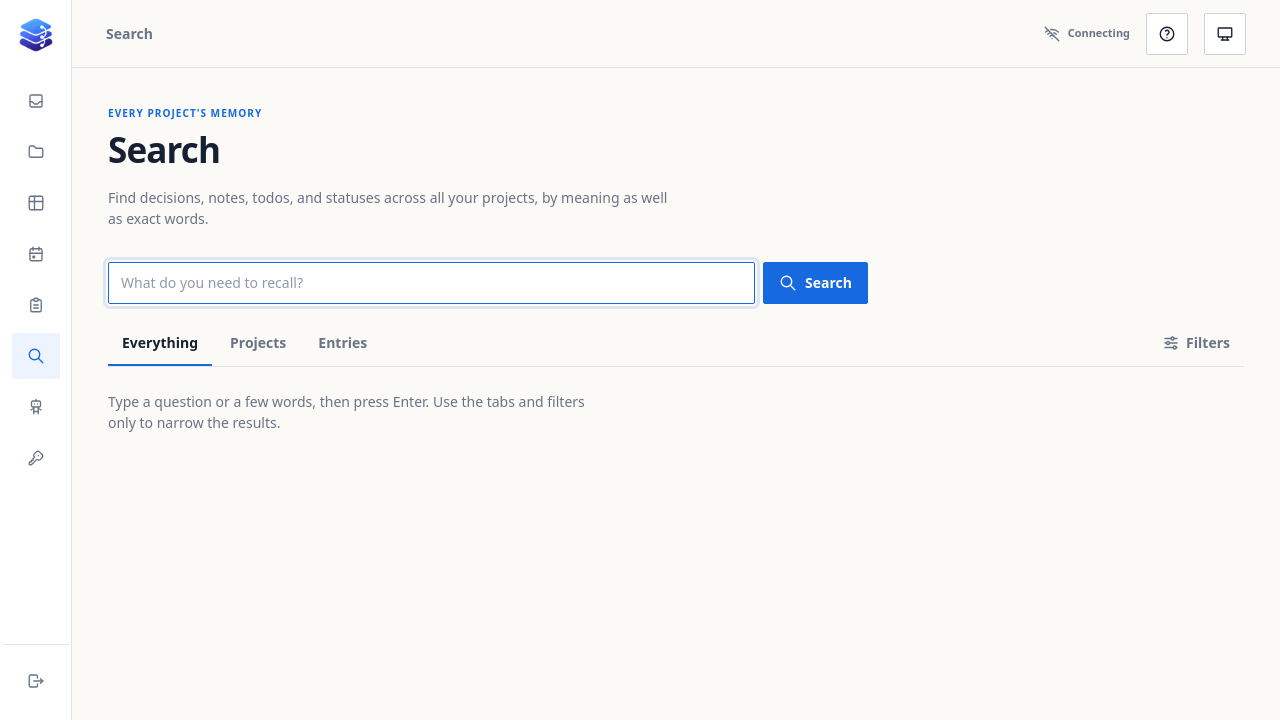
Test: search › runs a query with filters and renders ranked results with provenance
Step 1. Click the button "Filters" → coordinates (1196, 344), box 1148,322 -> 1244,366
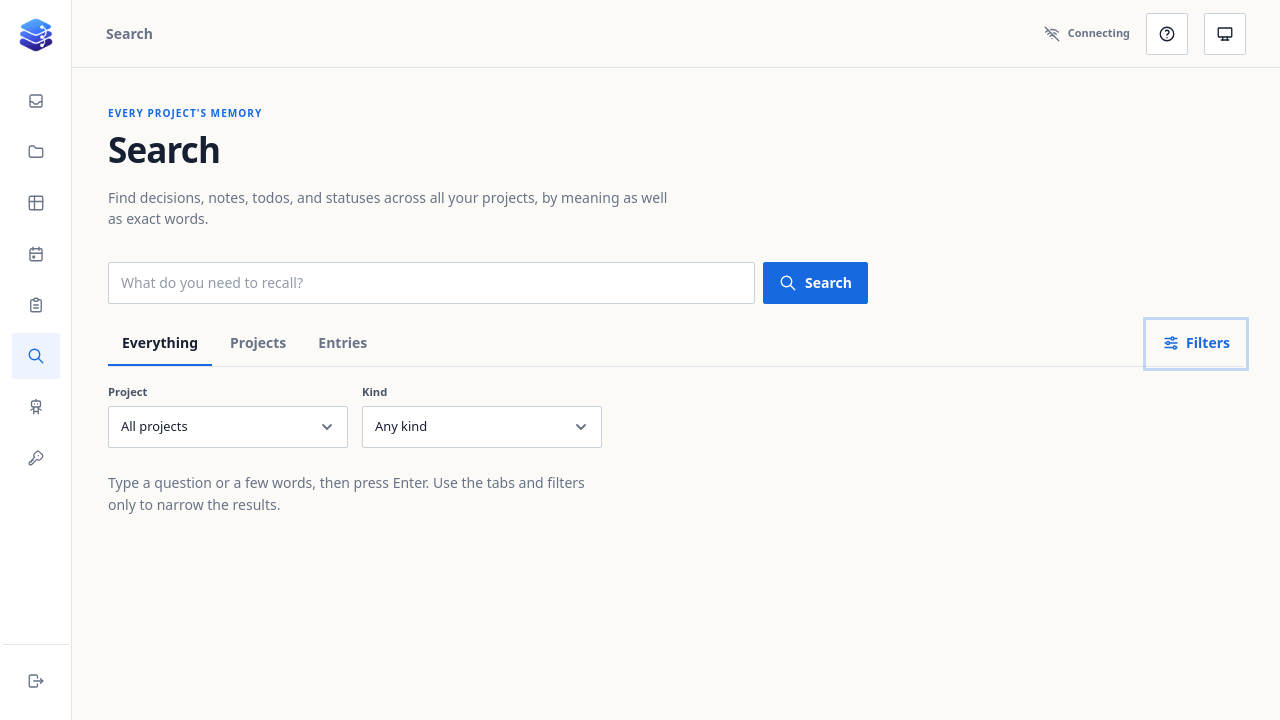
Step 2. Select "Atlas" in the dropdown labelled "Project" → coordinates (228, 427), box 108,406 -> 348,448
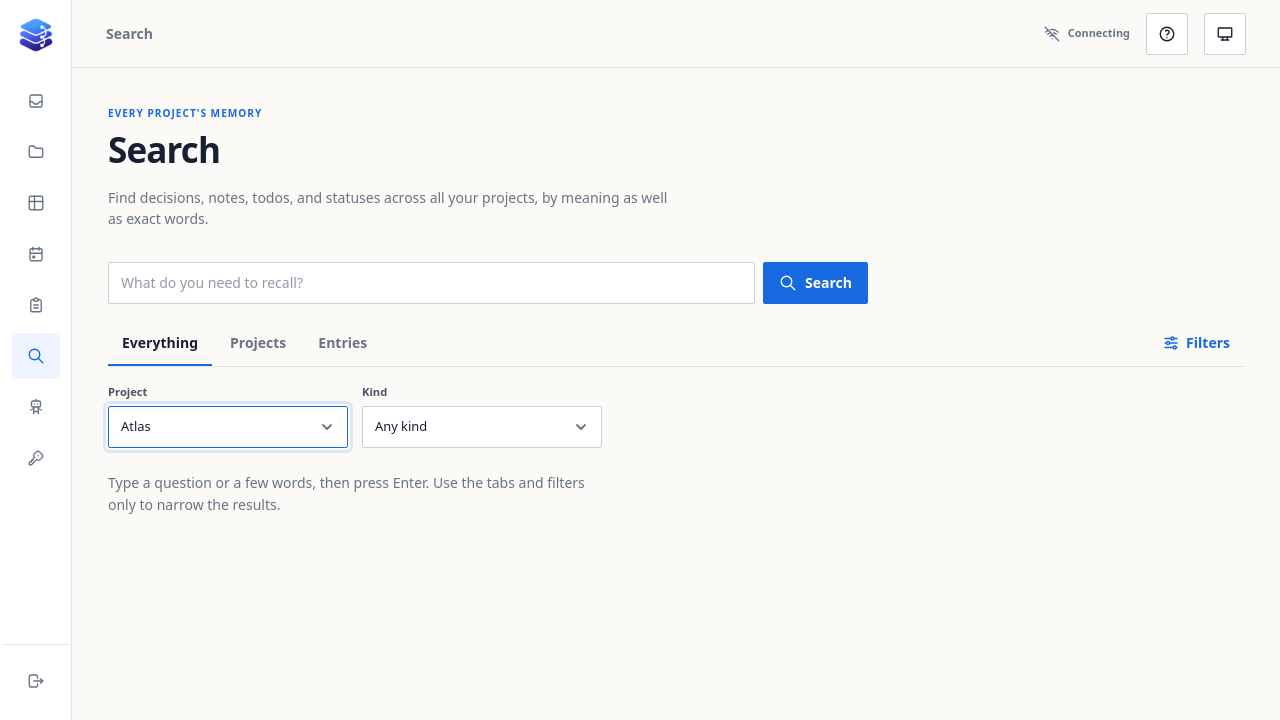
Step 3. Select "decision" in the dropdown labelled "Kind" → coordinates (482, 427), box 362,406 -> 602,448
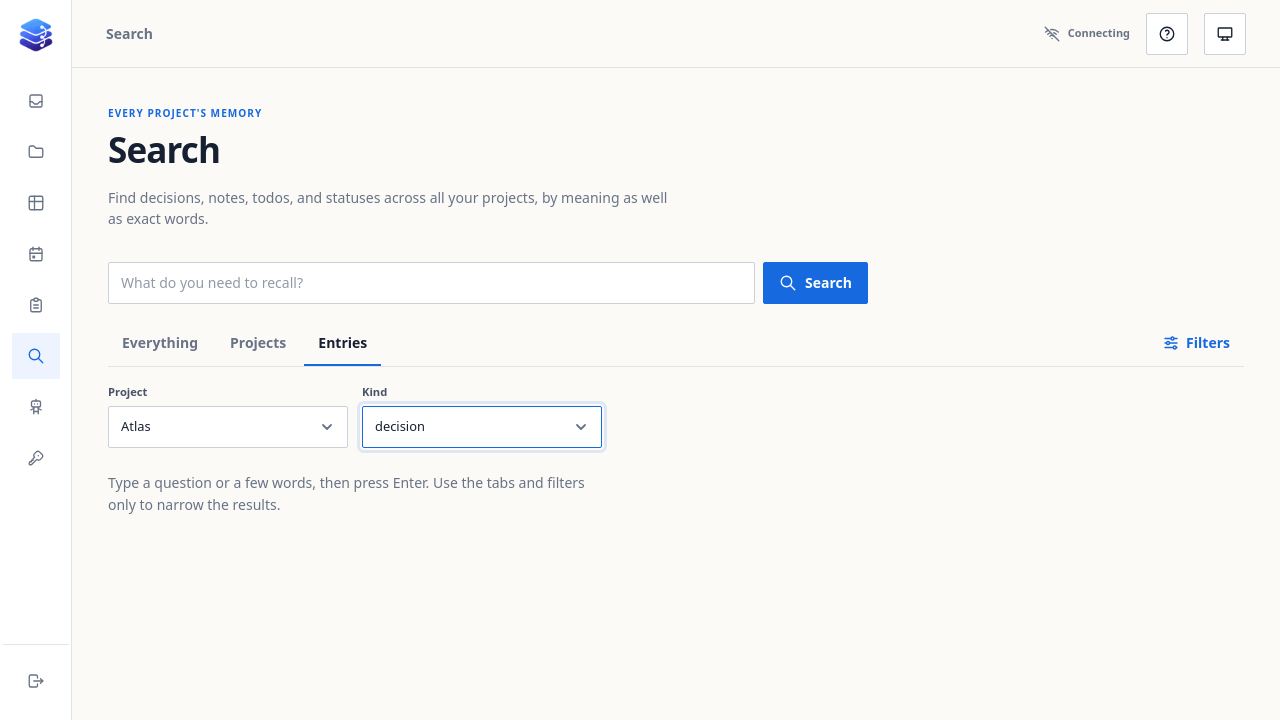
Step 4. Type "postgres" into the search field named "search memory" → coordinates (432, 283), box 108,262 -> 755,304
Then press Enter
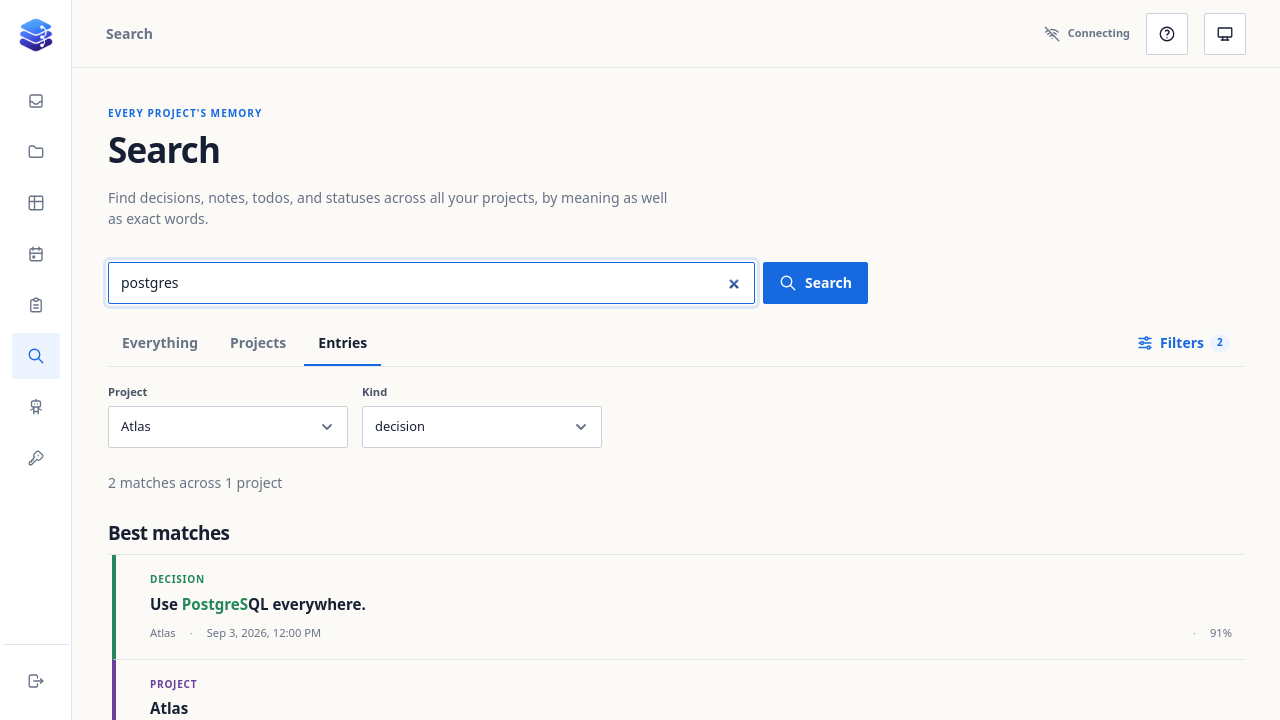
Check: the list item that starts with "decision" shows "Atlas", box 150,625 -> 176,640
Check: the list item that starts with "decision" is shown, box 150,572 -> 205,586
Check: the list item that starts with "decision" shows "Use PostgreSQL everywhere.", box 112,555 -> 1244,660
